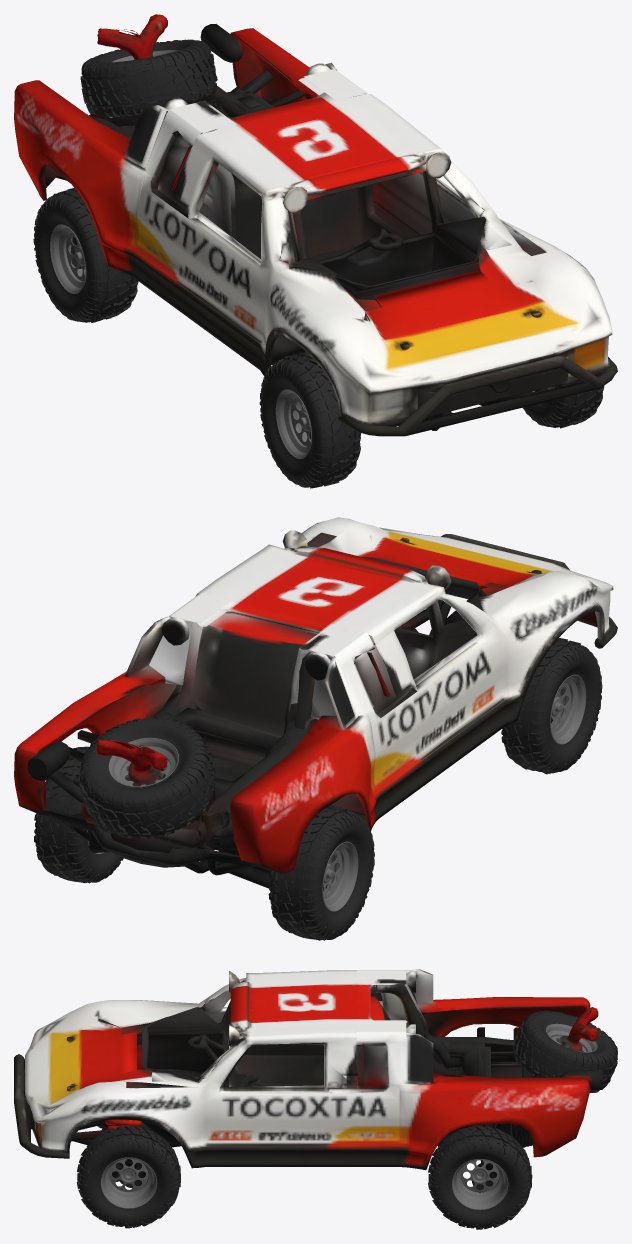
File: toyota.glb
The picture shows the model from 3 angles, top to bottom: view 1: azimuth 30°, elevation 25°; view 2: azimuth 150°, elevation 25°; view 3: azimuth 270°, elevation 25°; orthographic projection. The views are drawn at different scales.
Visible parts, largest first — view 1: chassis, WheeL_FR, Wheel_BR, Wheel_sc, Wheel_FL; view 2: chassis, Wheel_sc, Wheel_BR, WheeL_FR, Wheel_BL, RR_SUSP; view 3: chassis, Wheel_BL, Wheel_FL, Wheel_sc, RL_SUSP, FL_SUSP.
Boxes of the visible parts, box(x1,y1,x2,y2) form: chassis: box(14, 14, 617, 436); WheeL_FR: box(259, 351, 361, 488); Wheel_BR: box(33, 188, 138, 322); Wheel_sc: box(80, 39, 217, 117); Wheel_FL: box(522, 376, 604, 428); chassis: box(14, 517, 617, 875); Wheel_sc: box(79, 717, 215, 838); Wheel_BR: box(268, 804, 374, 940); WheeL_FR: box(501, 638, 602, 774); Wheel_BL: box(34, 746, 123, 883); RR_SUSP: box(219, 849, 327, 891); chassis: box(14, 969, 602, 1170); Wheel_BL: box(428, 1125, 532, 1229); Wheel_FL: box(76, 1125, 180, 1228); Wheel_sc: box(513, 1010, 617, 1092); RL_SUSP: box(472, 1123, 532, 1192); FL_SUSP: box(105, 1119, 145, 1187).
Size of the model in its own units: 0.4858 by 0.385 by 1.16.
7 materials, 1 textured.
